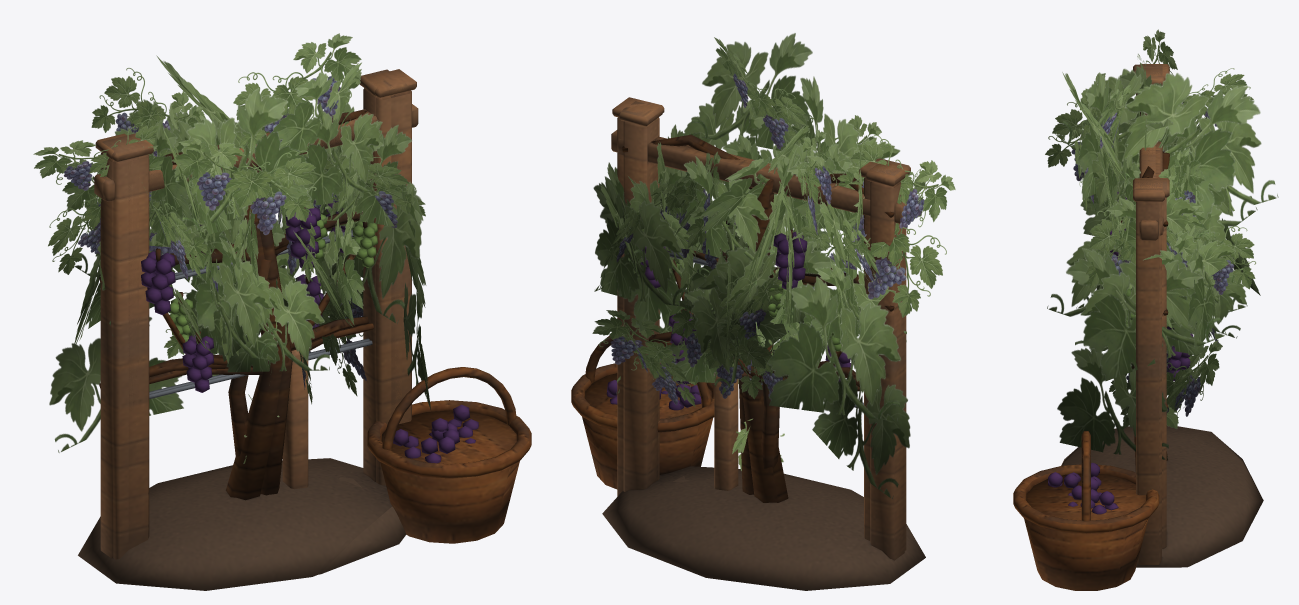
Rendered from grape_stages.glb.
3 renders of one model, left to right at view 1: azimuth 30°, elevation 25°; view 2: azimuth 150°, elevation 25°; view 3: azimuth 270°, elevation 25°, orthographic. The views are drawn at different scales.
Parts seen in each view (by area): view 1: GrapeTrellis_Struct_S3, GrapeTrellis_Leaves_S3, GrapeTrellis_Leaves_S2, GrapeTrellis_Struct_S2, GrapeTrellis_Struct_S1, GrapeTrellis_Struct_S0, GrapeTrellis_Leaves_S1; view 2: GrapeTrellis_Leaves_S3, GrapeTrellis_Struct_S3, GrapeTrellis_Leaves_S2, GrapeTrellis_Struct_S2, GrapeTrellis_Struct_S1, GrapeTrellis_Struct_S0, GrapeTrellis_Leaves_S1; view 3: GrapeTrellis_Leaves_S3, GrapeTrellis_Struct_S3, GrapeTrellis_Struct_S2, GrapeTrellis_Leaves_S2, GrapeTrellis_Struct_S1.
Boxes of the visible parts, <box> form: GrapeTrellis_Struct_S3: <box>78,69,531,590</box>; GrapeTrellis_Leaves_S3: <box>33,33,430,452</box>; GrapeTrellis_Leaves_S2: <box>74,103,411,376</box>; GrapeTrellis_Struct_S2: <box>126,69,418,574</box>; GrapeTrellis_Struct_S1: <box>101,71,407,559</box>; GrapeTrellis_Struct_S0: <box>282,349,308,489</box>; GrapeTrellis_Leaves_S1: <box>99,205,364,363</box>; GrapeTrellis_Leaves_S3: <box>592,33,955,498</box>; GrapeTrellis_Struct_S3: <box>571,101,925,590</box>; GrapeTrellis_Leaves_S2: <box>600,99,906,390</box>; GrapeTrellis_Struct_S2: <box>611,97,897,540</box>; GrapeTrellis_Struct_S1: <box>622,103,910,550</box>; GrapeTrellis_Struct_S0: <box>714,373,738,490</box>; GrapeTrellis_Leaves_S1: <box>661,205,888,355</box>; GrapeTrellis_Leaves_S3: <box>1045,29,1278,459</box>; GrapeTrellis_Struct_S3: <box>1013,64,1263,590</box>; GrapeTrellis_Struct_S2: <box>1119,68,1181,567</box>; GrapeTrellis_Leaves_S2: <box>1076,66,1243,380</box>; GrapeTrellis_Struct_S1: <box>1133,64,1162,191</box>.
Size of the model in its own units: 1.56 by 1.64 by 0.8866.
3 materials, 3 textured.
